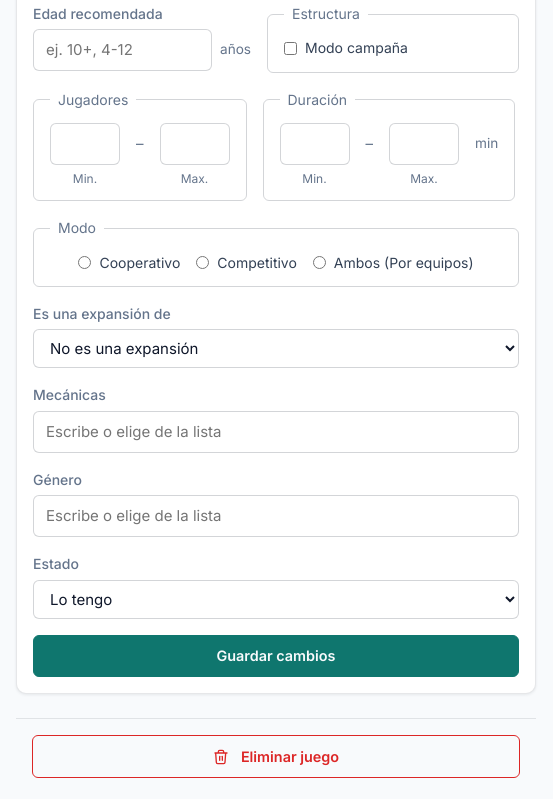
Test: EditGameView delete › shows a generic error, stays on the page, and un-arms the confirmation when deleting fails
The width and height of the screenshot is (553, 799).
(page scrolled)
Click the button "Eliminar juego": x=276, y=757 x1=32 y1=735 x2=520 y2=778
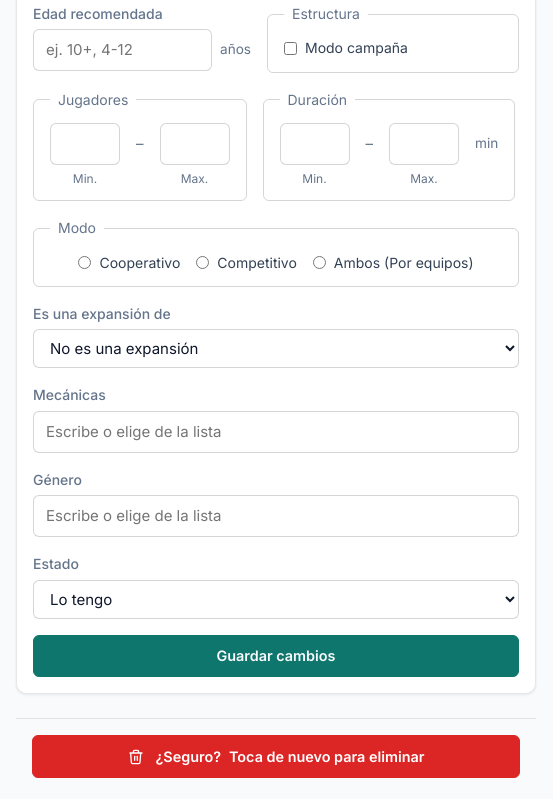
Click the button "¿Seguro? Toca de nuevo para eliminar": x=276, y=757 x1=32 y1=735 x2=520 y2=778
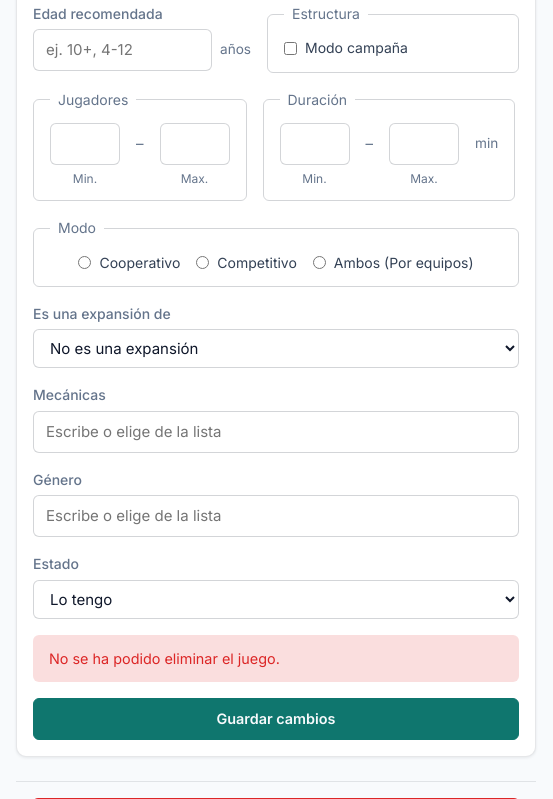
Expected: the text "No se ha podido eliminar el juego." is shown, x1=33 y1=635 x2=519 y2=682
Expected: the button "¿Seguro? Toca de nuevo para eliminar" no longer shows "¿Seguro?"
